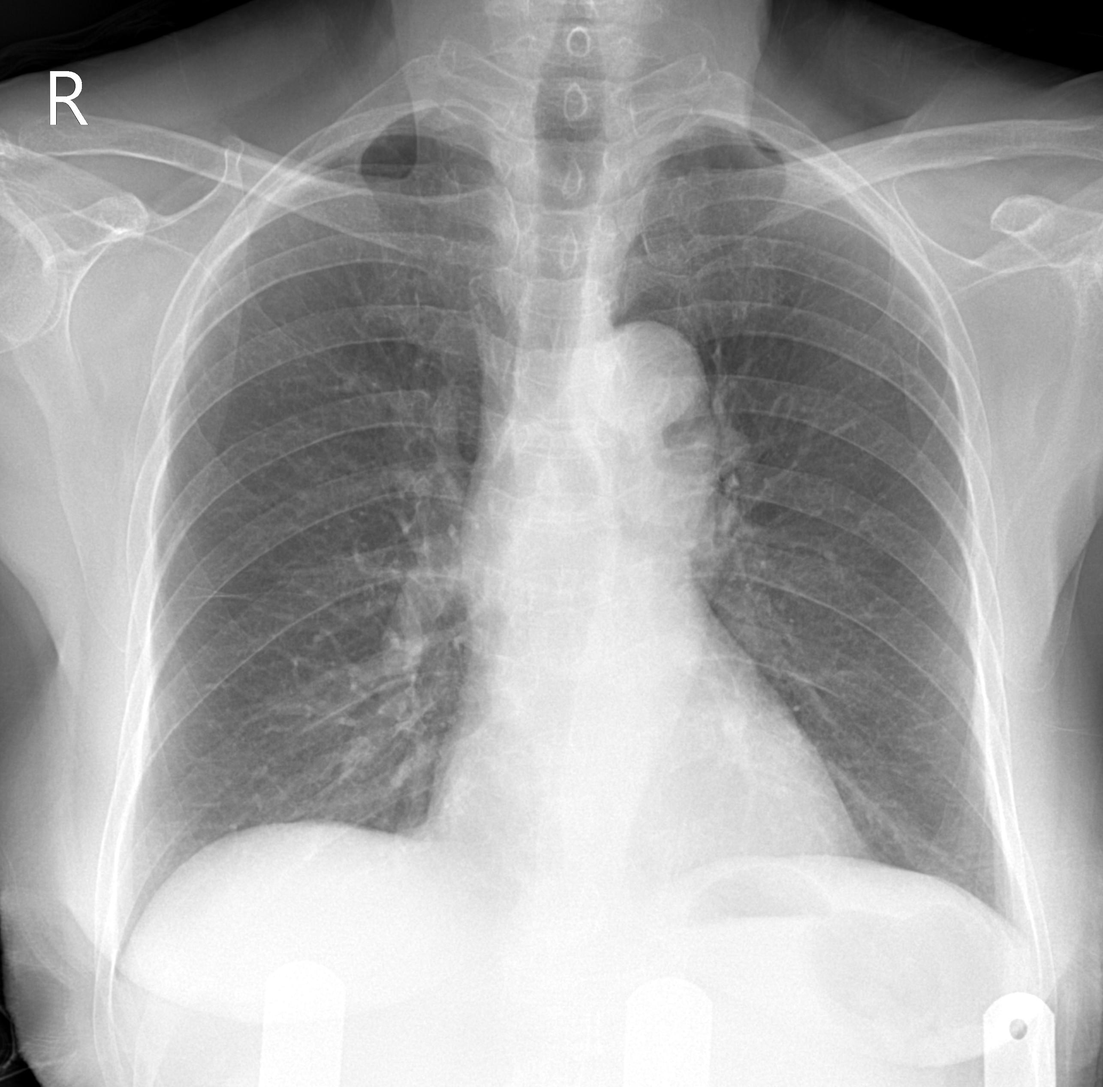Aortic enlargement: (567, 316, 702, 429)
